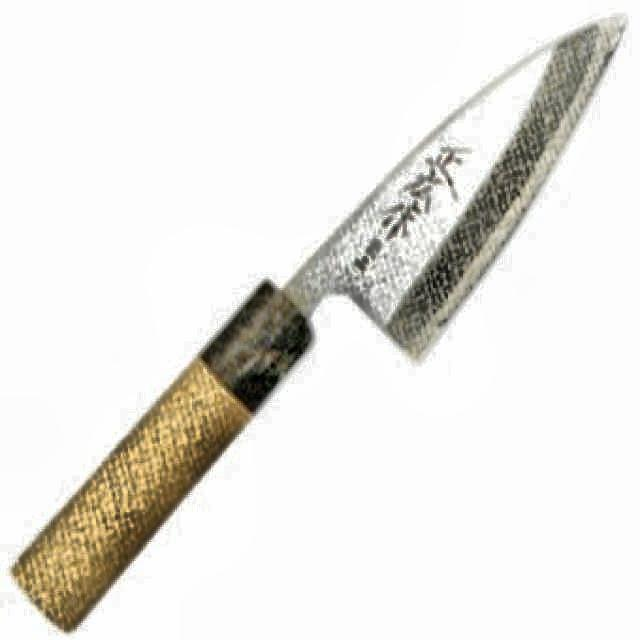knife: (10, 9, 634, 628)
